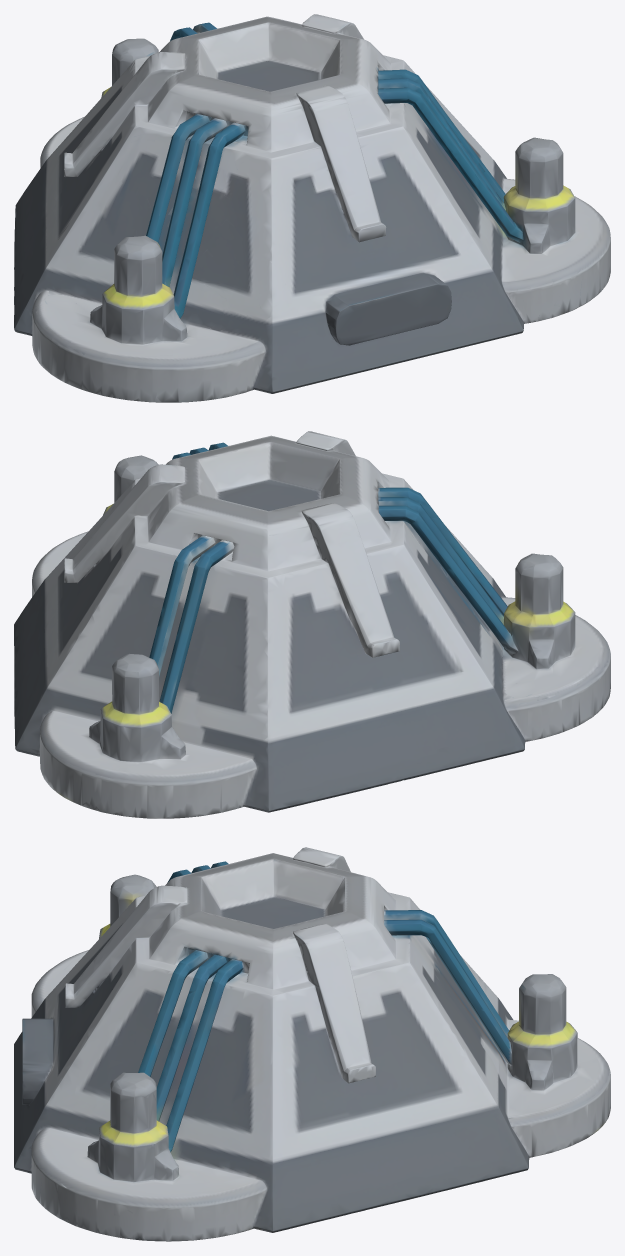
File: hub.glb
3 views of the same model, one above another, from view 1: azimuth 30°, elevation 25°; view 2: azimuth 150°, elevation 25°; view 3: azimuth 270°, elevation 25° (orthographic).
Visible parts, largest first — view 1: material; view 2: material; view 3: material.
Part boxes in pixels (left/top/right/bottom): material: left=14, top=14, right=610, bottom=402; material: left=14, top=431, right=610, bottom=818; material: left=14, top=847, right=610, bottom=1241.
Bounding box in the file's own units: 0.9841 × 0.3698 × 0.9325.
1 material, 1 textured.
